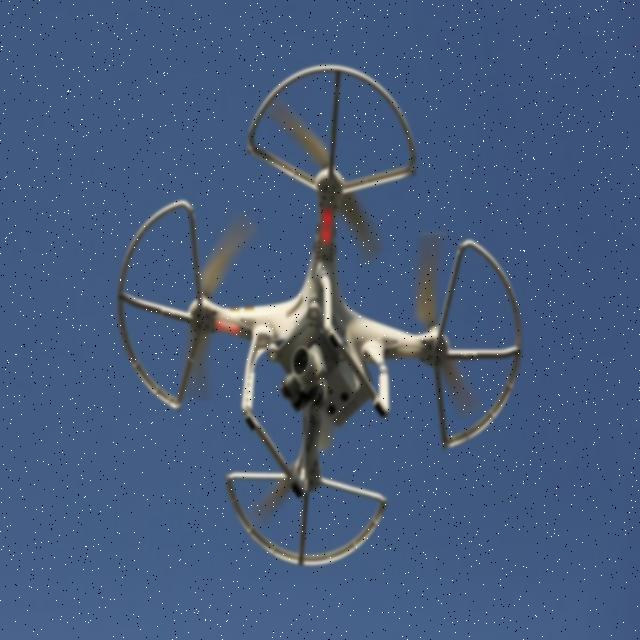UAV: (115, 61, 524, 568)
